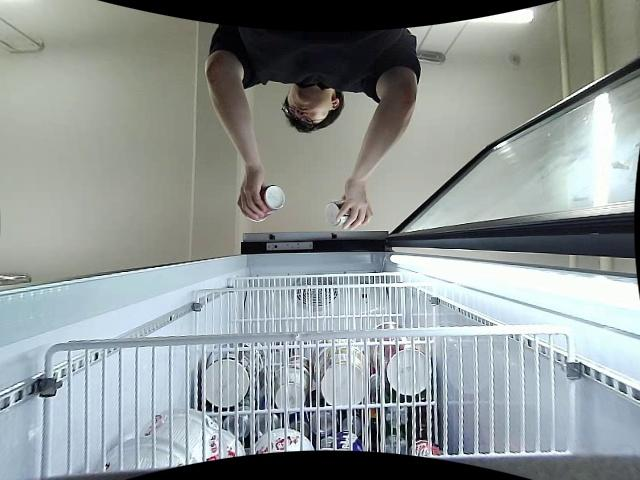00_hand: (237, 168, 273, 222), (336, 179, 373, 231)
02_shinRamen_S: (235, 185, 285, 213), (324, 201, 351, 227)
